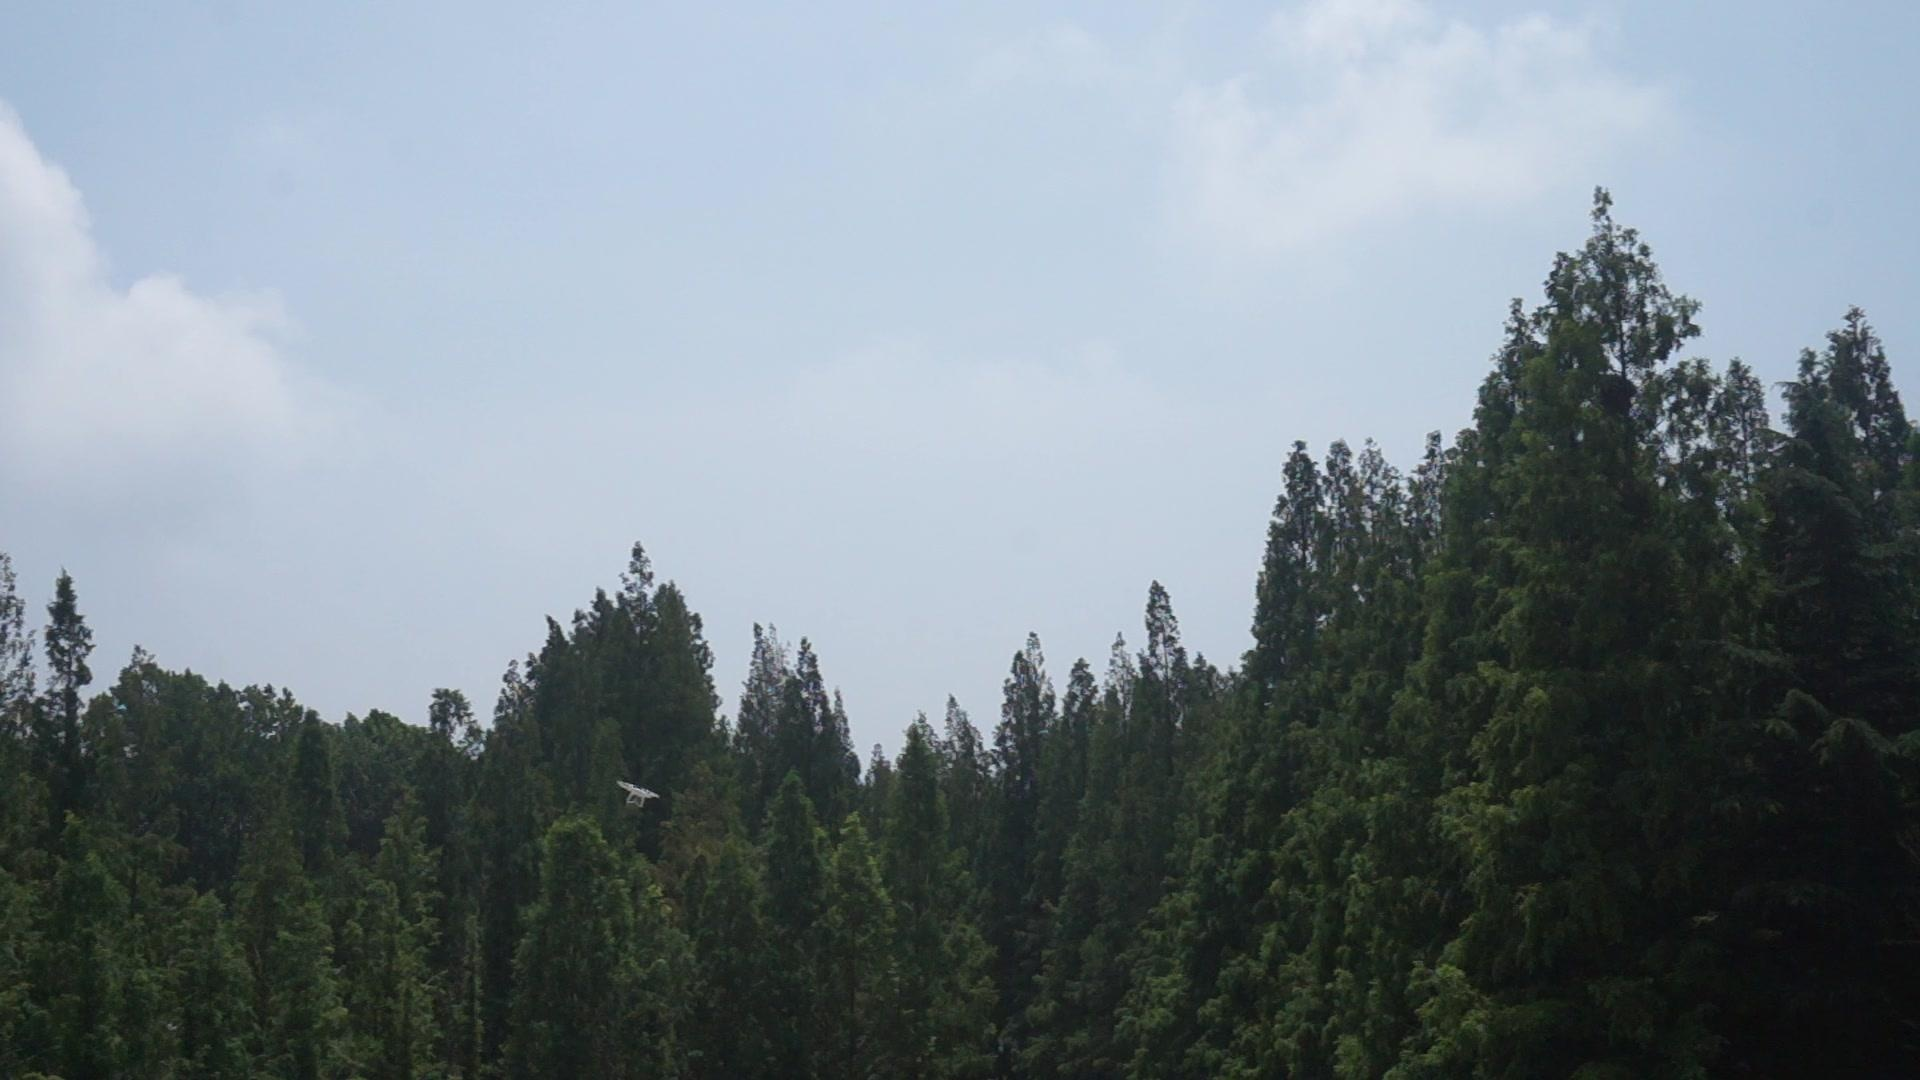UAV: (616, 781, 661, 808)
